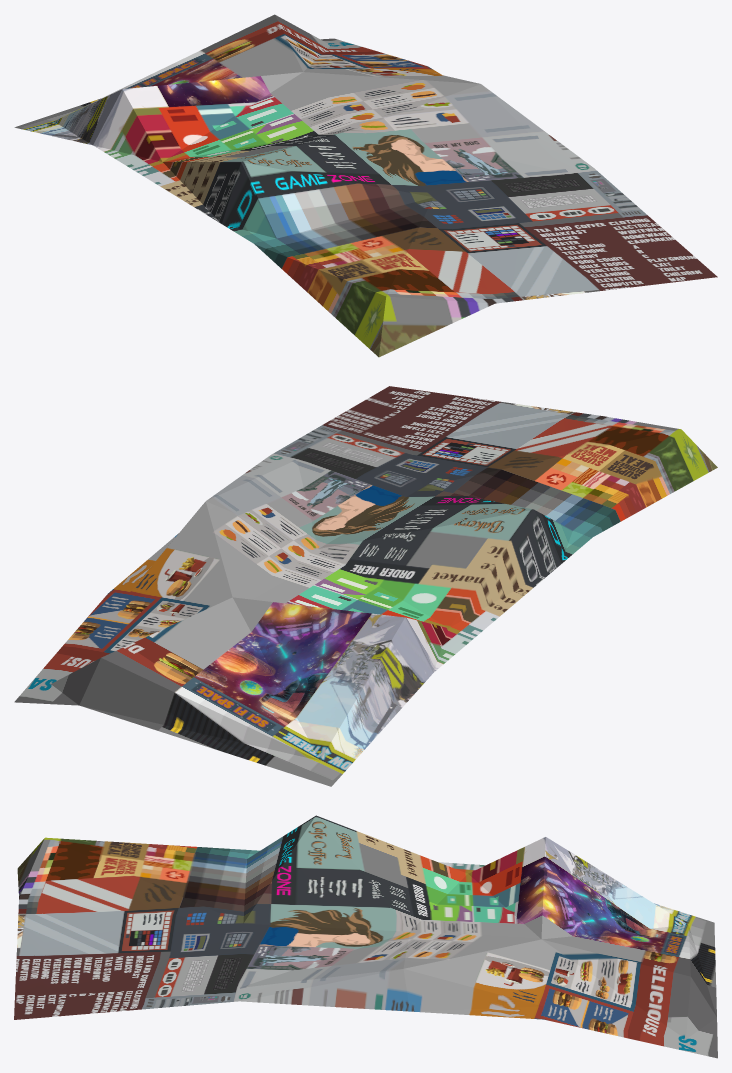
Rendered from SM_Prop_TrashSkip_01.obj.
3 views of the same model, one above another, from view 1: azimuth 30°, elevation 25°; view 2: azimuth 150°, elevation 25°; view 3: azimuth 270°, elevation 25° (orthographic). The views are drawn at different scales.
Visible parts, largest first — view 1: SM_Prop_TrashSkip_01_0; view 2: SM_Prop_TrashSkip_01_0; view 3: SM_Prop_TrashSkip_01_0.
Boxes of the visible parts, bbox=[...] form: SM_Prop_TrashSkip_01_0: bbox=[14, 14, 717, 357]; SM_Prop_TrashSkip_01_0: bbox=[14, 386, 717, 786]; SM_Prop_TrashSkip_01_0: bbox=[14, 815, 717, 1058].
Bounding box in the file's own units: 2.12 × 0.7326 × 4.18.
Materials: 1 (1 with a texture image).
